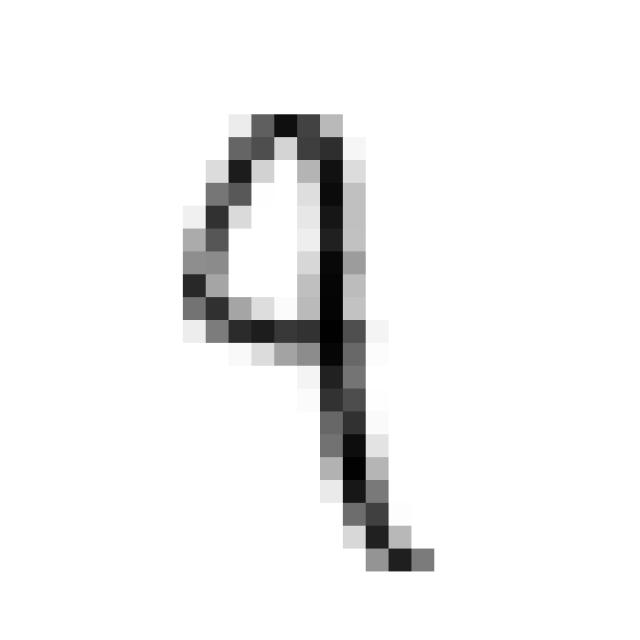9 -nine-: (158, 89, 449, 585)
